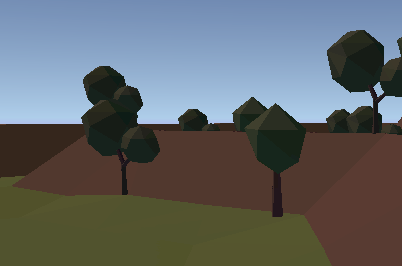tree: (81, 95, 161, 203), (331, 15, 402, 132), (245, 100, 310, 222), (78, 61, 147, 113), (322, 101, 386, 135), (175, 107, 225, 139), (229, 93, 268, 134)
